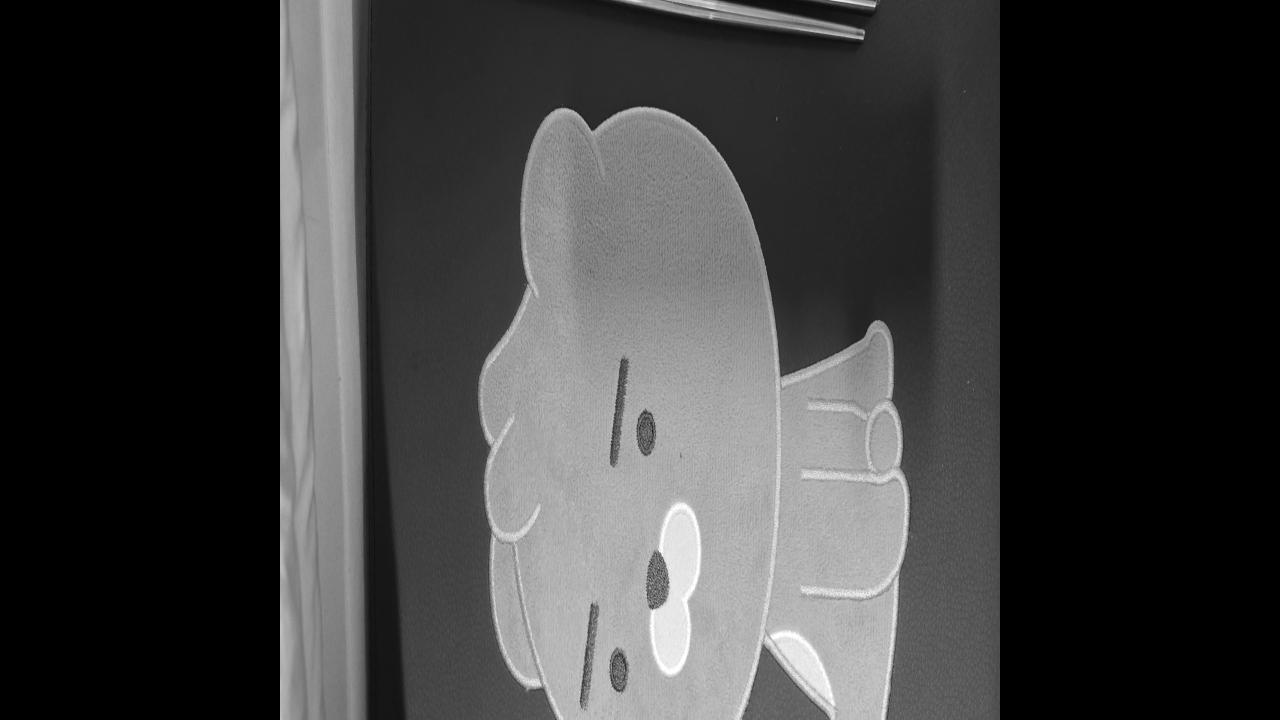chopstick: (458, 0, 879, 44)
